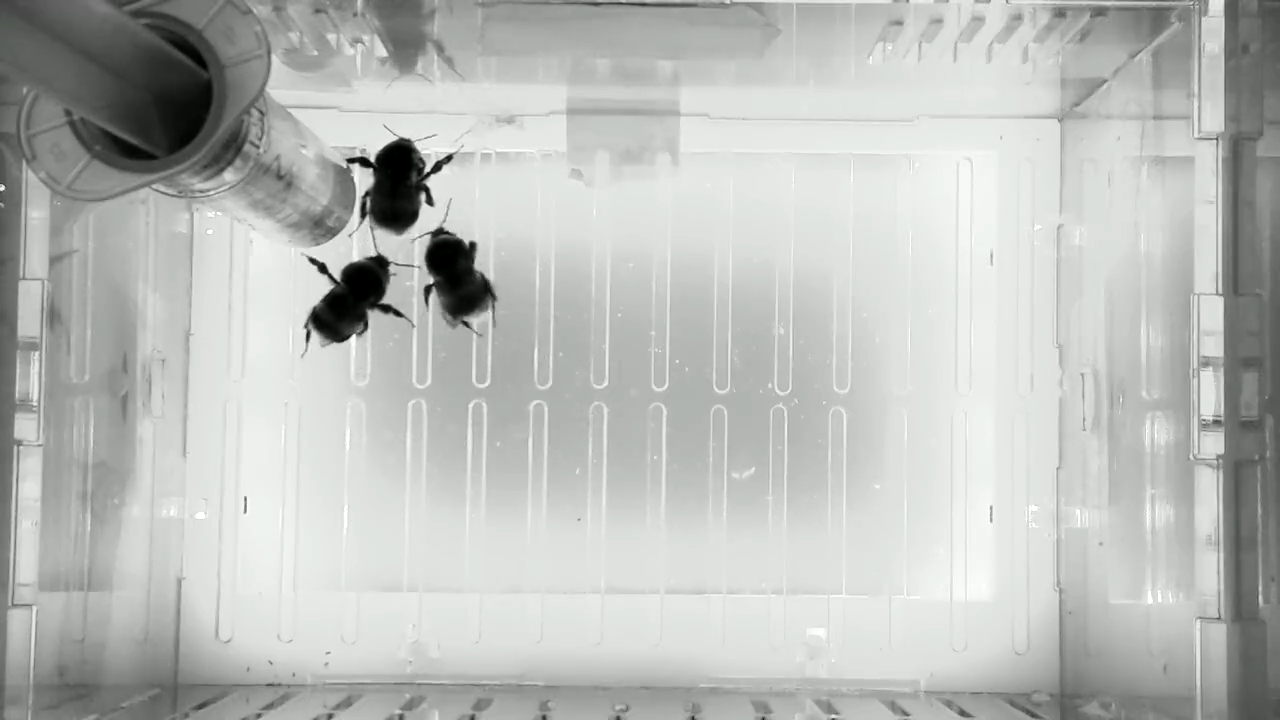bee_alive: (294, 223, 426, 363), (339, 123, 467, 243), (407, 197, 505, 344)
feeder: (183, 88, 361, 250)
